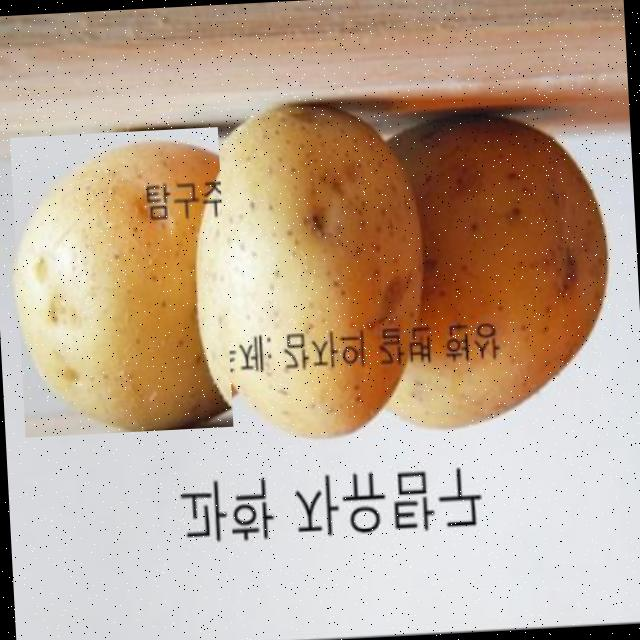Potato: (180, 93, 444, 440), (384, 102, 616, 443), (10, 128, 234, 438)
